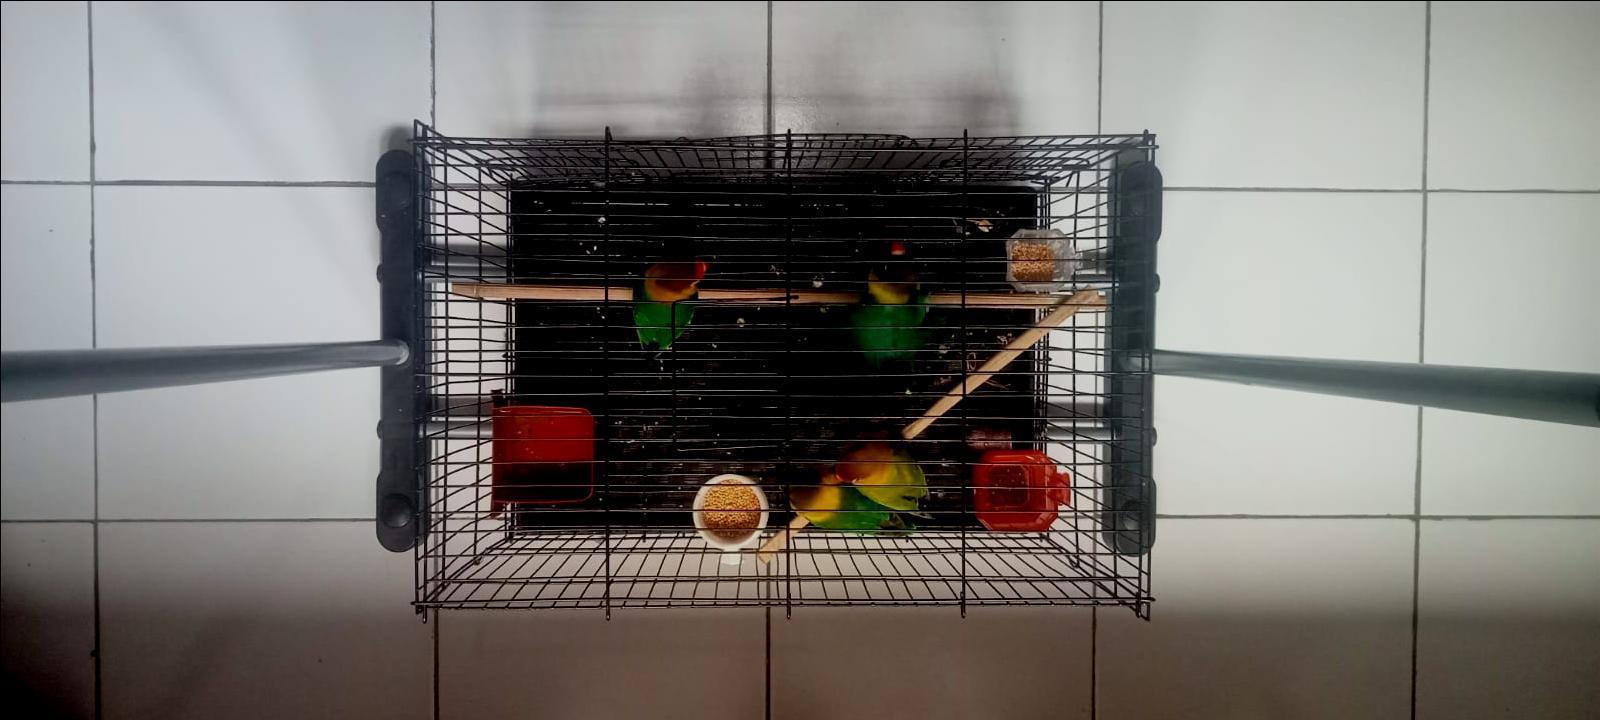LoveBird: (824, 237, 932, 396), (777, 460, 916, 537), (833, 426, 933, 519), (631, 257, 709, 358)
